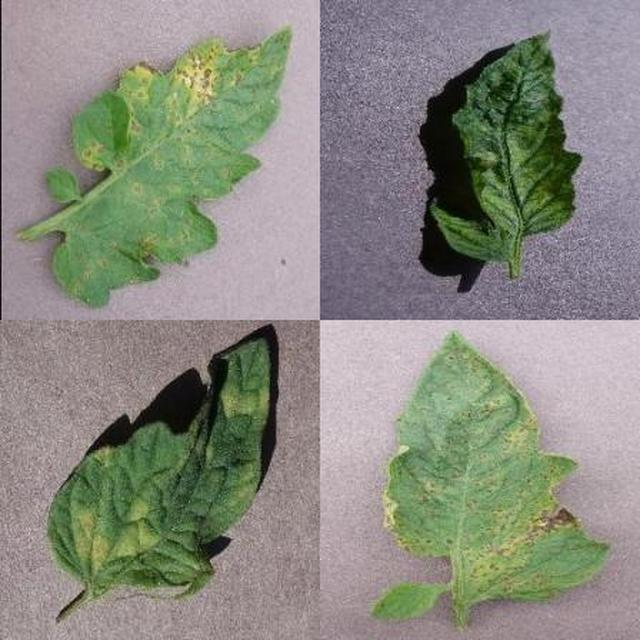Septoria Leaf: (221, 209, 640, 640)
